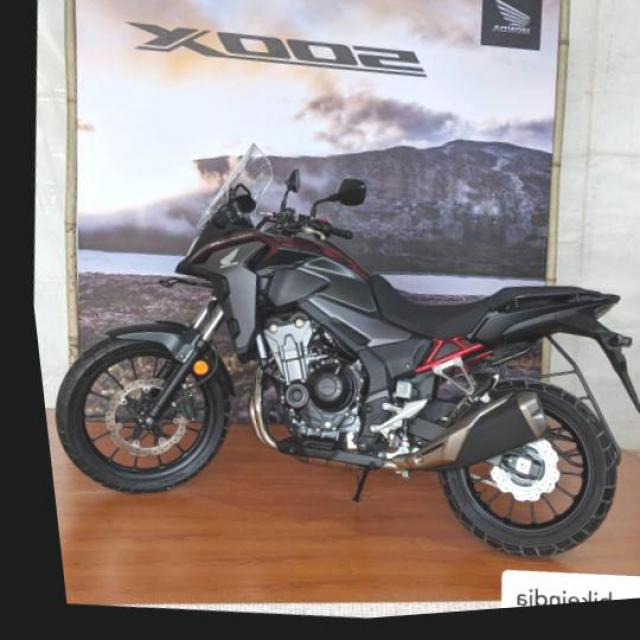CB500X: (11, 97, 638, 607)
